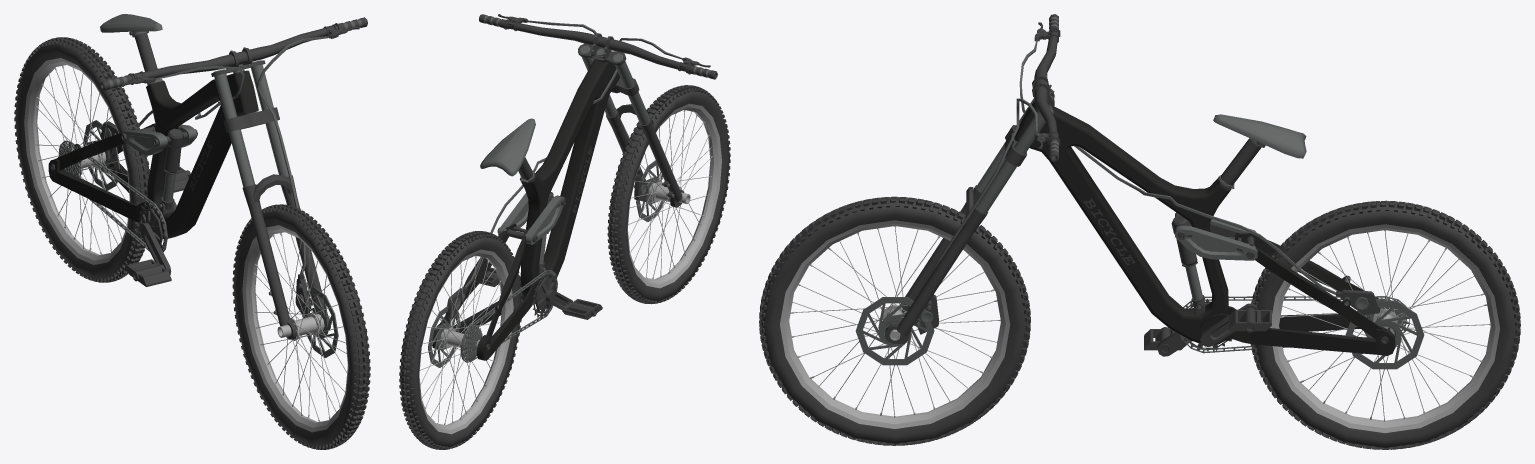
The model's file is bike_opt.glb.
3 renders of one model, left to right at view 1: azimuth 30°, elevation 25°; view 2: azimuth 150°, elevation 25°; view 3: azimuth 270°, elevation 25°, orthographic. The views are drawn at different scales.
Parts seen in each view (by area): view 1: Wheel_B_Textures_0, Wheel_B_Mat Wheel_0, Body_Mat Body_0; view 2: Wheel_B_Textures_0, Body_Mat Body_0, Wheel_B_Mat Wheel_0; view 3: Wheel_B_Textures_0, Body_Mat Body_0, Wheel_B_Mat Wheel_0.
Part boxes in pixels (x1,y1,x2,y2): Wheel_B_Textures_0: [14, 14, 370, 449]; Wheel_B_Mat Wheel_0: [24, 58, 348, 432]; Body_Mat Body_0: [48, 70, 258, 238]; Wheel_B_Textures_0: [399, 14, 730, 449]; Body_Mat Body_0: [432, 60, 619, 360]; Wheel_B_Mat Wheel_0: [419, 103, 721, 434]; Wheel_B_Textures_0: [759, 14, 1520, 449]; Body_Mat Body_0: [1014, 101, 1395, 355]; Wheel_B_Mat Wheel_0: [780, 220, 1499, 432].
Bounding box in the file's own units: 0.5852 × 0.7198 × 1.35.
3 materials, 1 textured.
